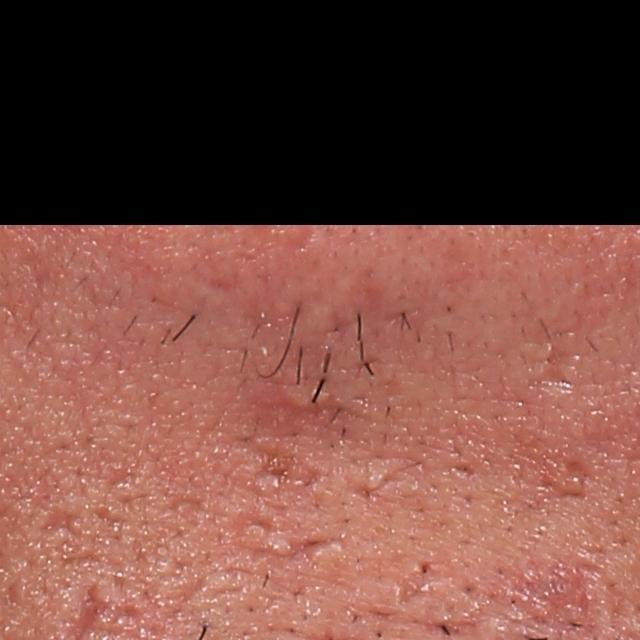atrophic_scar: (391, 557, 454, 607), (249, 438, 304, 488), (548, 455, 600, 507), (298, 536, 355, 564), (37, 506, 82, 539), (233, 510, 282, 537), (55, 548, 104, 569), (449, 460, 480, 482)
